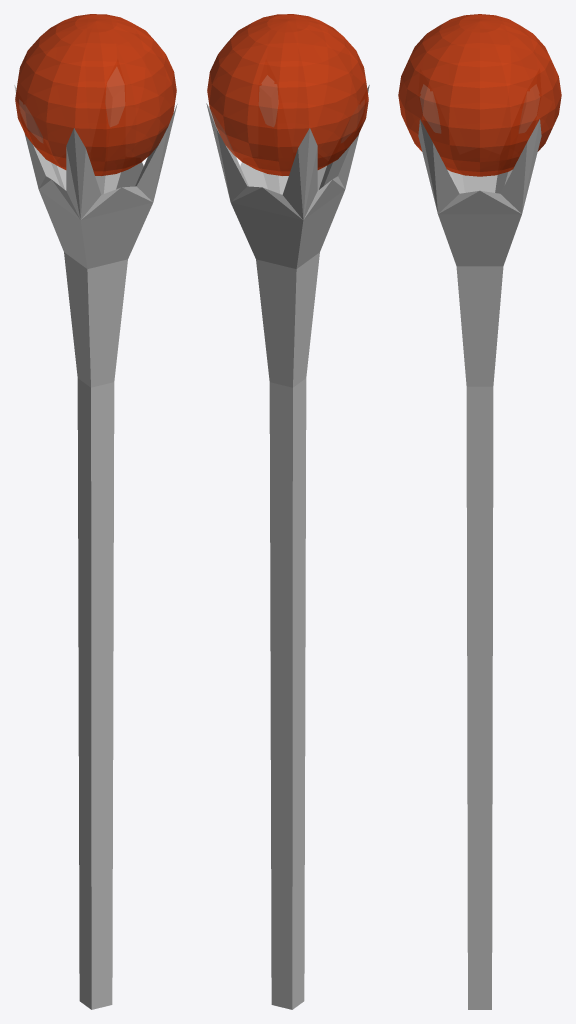
The model's file is torch.obj.
The picture shows the model from 3 angles, left to right: view 1: azimuth 30°, elevation 25°; view 2: azimuth 150°, elevation 25°; view 3: azimuth 270°, elevation 25°; orthographic projection.
Visible parts, largest first — view 1: Sphere; view 2: Sphere; view 3: Sphere.
Part boxes in pixels (bbox=[...]): Sphere: bbox=[14, 14, 177, 1009]; Sphere: bbox=[206, 14, 369, 1009]; Sphere: bbox=[398, 14, 561, 1009].
Size of the model in its own units: 0.14 by 0.93 by 0.14.
